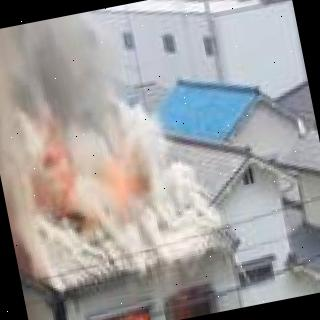fire: (10, 223, 54, 320), (98, 287, 214, 320)
